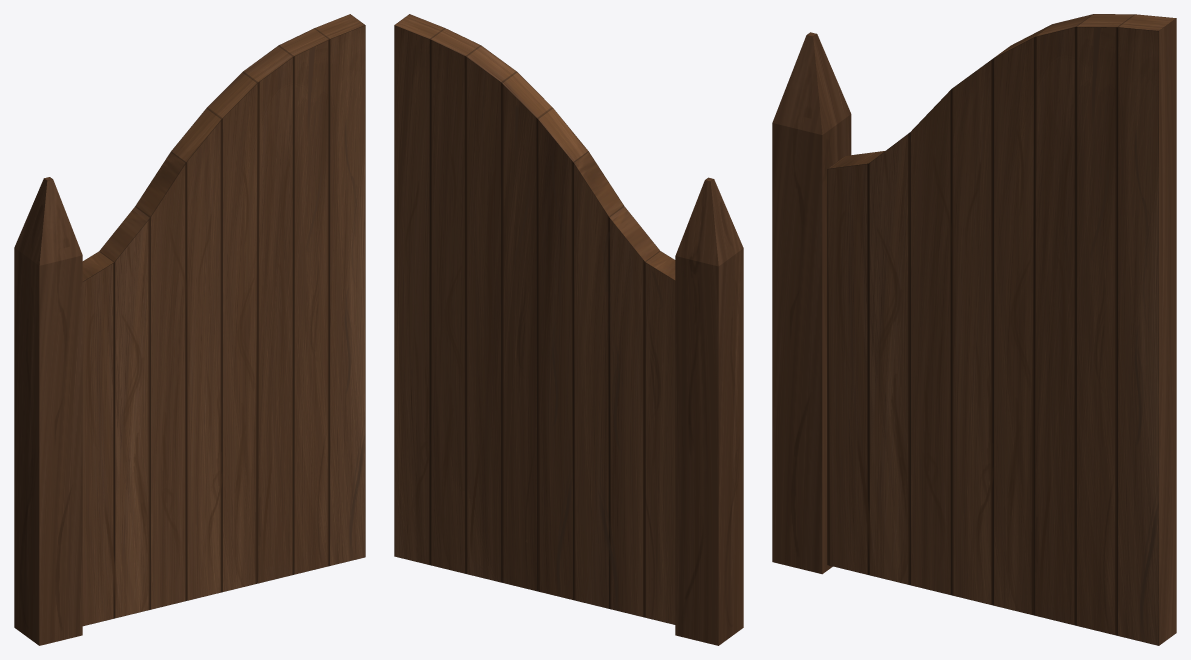
The model's file is Porta_Esquerda.gltf.
The picture shows the model from 3 angles, left to right: view 1: azimuth 30°, elevation 25°; view 2: azimuth 150°, elevation 25°; view 3: azimuth 330°, elevation 25°; orthographic projection. The views are drawn at different scales.
Visible parts, largest first — view 1: Plano; view 2: Plano; view 3: Plano.
Part boxes in pixels (x1,y1,x2,y2): Plano: (14, 14, 365, 645); Plano: (394, 14, 743, 645); Plano: (772, 14, 1176, 645).
Size of the model in its own units: 1.5 by 2.33 by 0.1965.
Materials: 1 (1 with a texture image).
